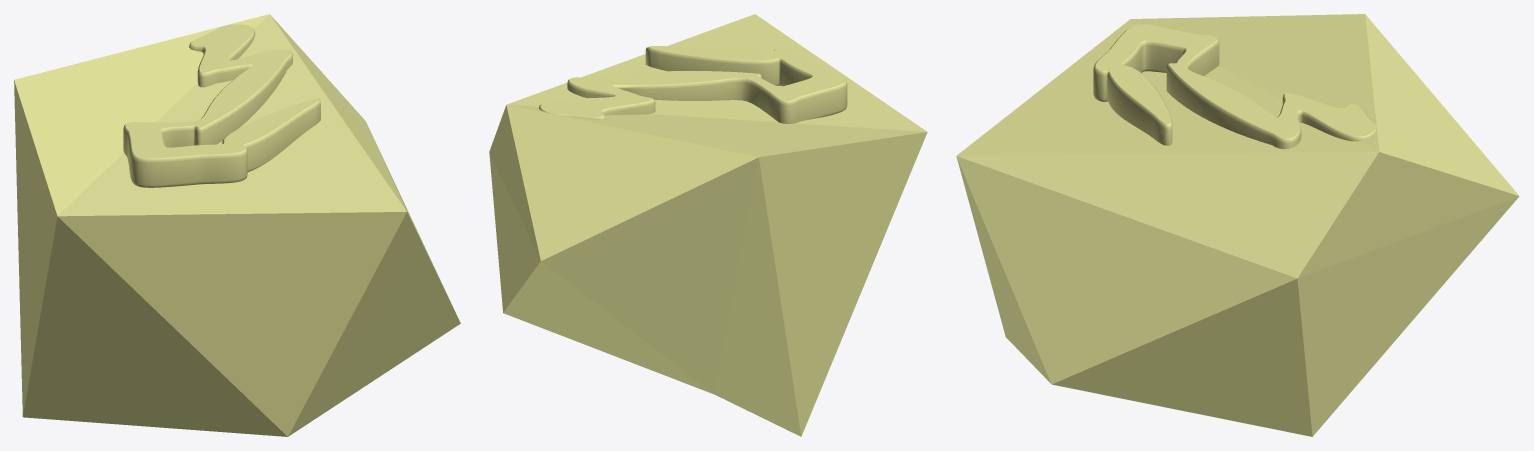
Rendered from ikinci.fbx.
3 views of the same model, side by side, from view 1: azimuth 30°, elevation 25°; view 2: azimuth 150°, elevation 25°; view 3: azimuth 270°, elevation 25° (orthographic). The views are drawn at different scales.
Visible parts, largest first — view 1: Icosphere.001, Curve.001; view 2: Icosphere.001, Curve.001; view 3: Icosphere.001, Curve.001.
Part boxes in pixels (x1,y1,x2,y2): Icosphere.001: (14,14,460,436); Curve.001: (123,24,320,187); Icosphere.001: (489,14,927,436); Curve.001: (539,46,847,123); Icosphere.001: (956,14,1519,436); Curve.001: (1093,24,1376,149).
Bounding box in the file's own units: 222 × 172 × 266.
